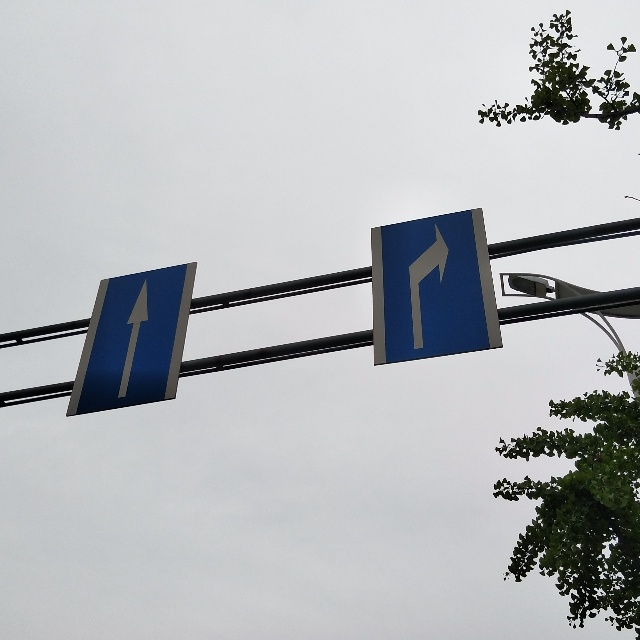right: (386, 222, 470, 354)
straight: (106, 271, 165, 414)
